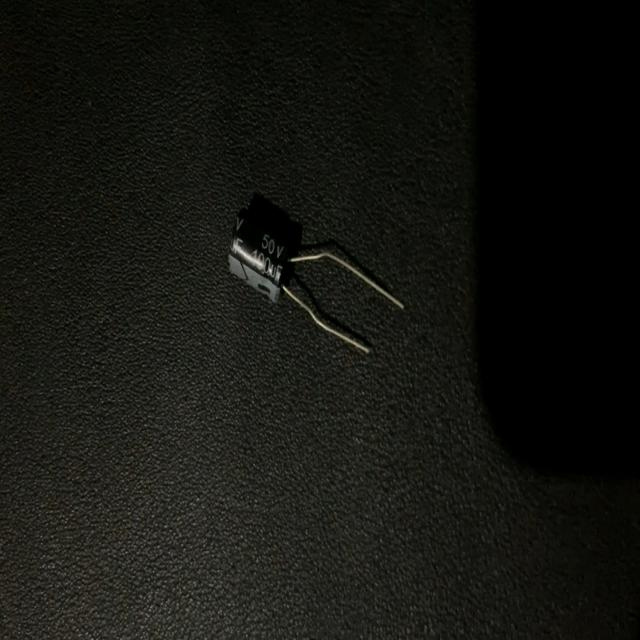capacitor: (229, 206, 402, 352)
